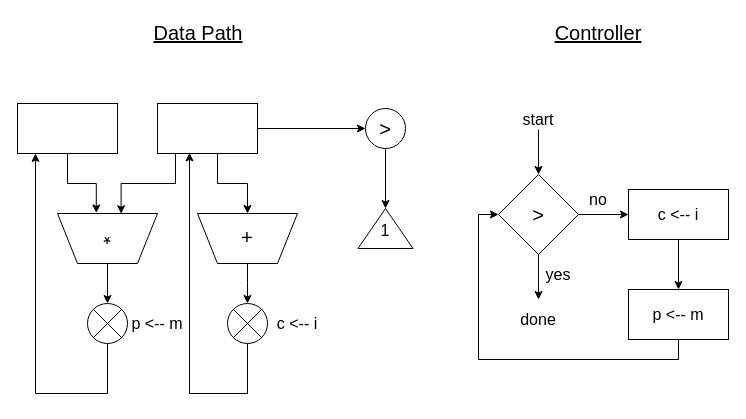
Some shapes in this 746 by 419 pixel diagram are drawn without their labels. The centre of each missing label's shape, as x and y in pixels:
"Counter" belongs at [207,128].
"Product" belongs at [67,128].
